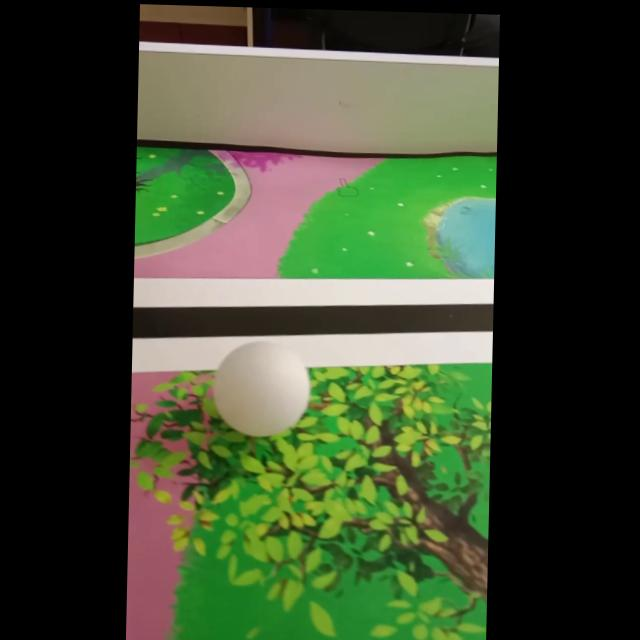white ball: (211, 339, 312, 439)
